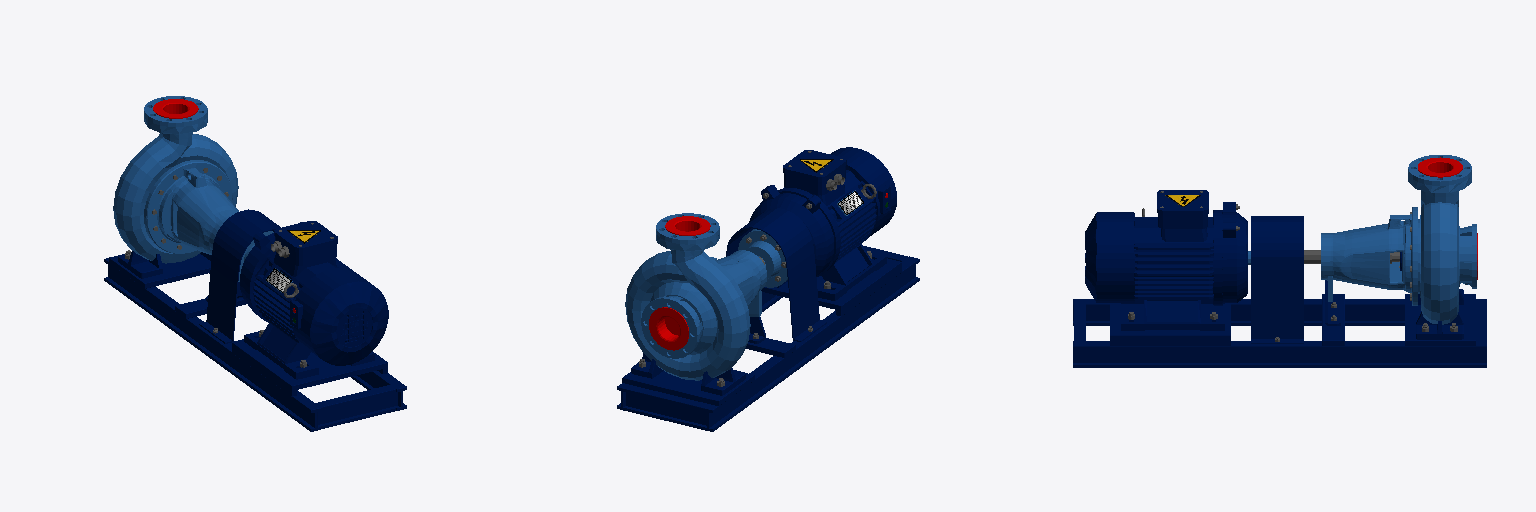
The picture shows the model from 3 angles: view 1: azimuth 30°, elevation 25°; view 2: azimuth 150°, elevation 25°; view 3: azimuth 270°, elevation 25°; orthographic projection.
Parts seen in each view (by area): view 1: Water_Centrifugal_Pump_body, Water_Centrifugal_Pump_sign, Water_Centrifugal_Pump_chrome; view 2: Water_Centrifugal_Pump_body, Water_Centrifugal_Pump_sign, Water_Centrifugal_Pump_chrome; view 3: Water_Centrifugal_Pump_body, Water_Centrifugal_Pump_sign, Water_Centrifugal_Pump_chrome.
Boxes of the visible parts, box(x1,y1,x2,y2) form: Water_Centrifugal_Pump_body: box(104, 209, 406, 431); Water_Centrifugal_Pump_sign: box(113, 96, 320, 322); Water_Centrifugal_Pump_chrome: box(125, 168, 333, 367); Water_Centrifugal_Pump_body: box(617, 147, 919, 431); Water_Centrifugal_Pump_sign: box(625, 159, 887, 380); Water_Centrifugal_Pump_chrome: box(639, 151, 876, 386); Water_Centrifugal_Pump_body: box(1073, 190, 1486, 367); Water_Centrifugal_Pump_sign: box(1165, 155, 1477, 324); Water_Centrifugal_Pump_chrome: box(1128, 191, 1457, 341).
Size of the model in its own units: 1104 by 1569 by 3312.
Materials: 3 (1 with a texture image).